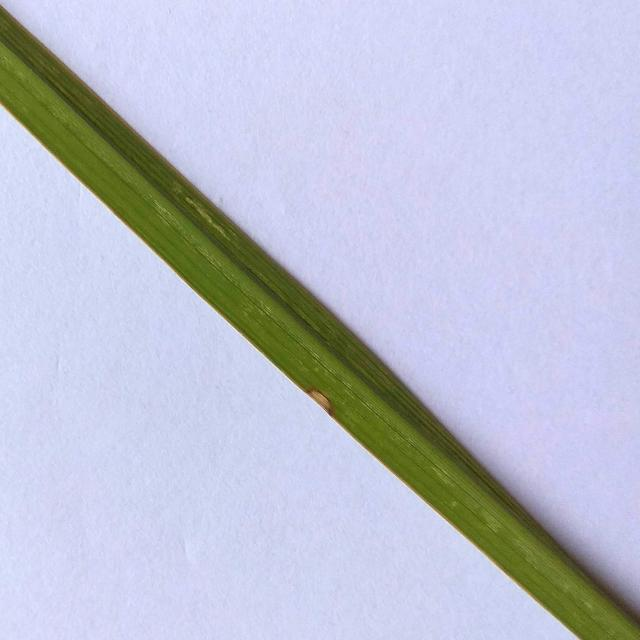Blast: (306, 388, 336, 414)
